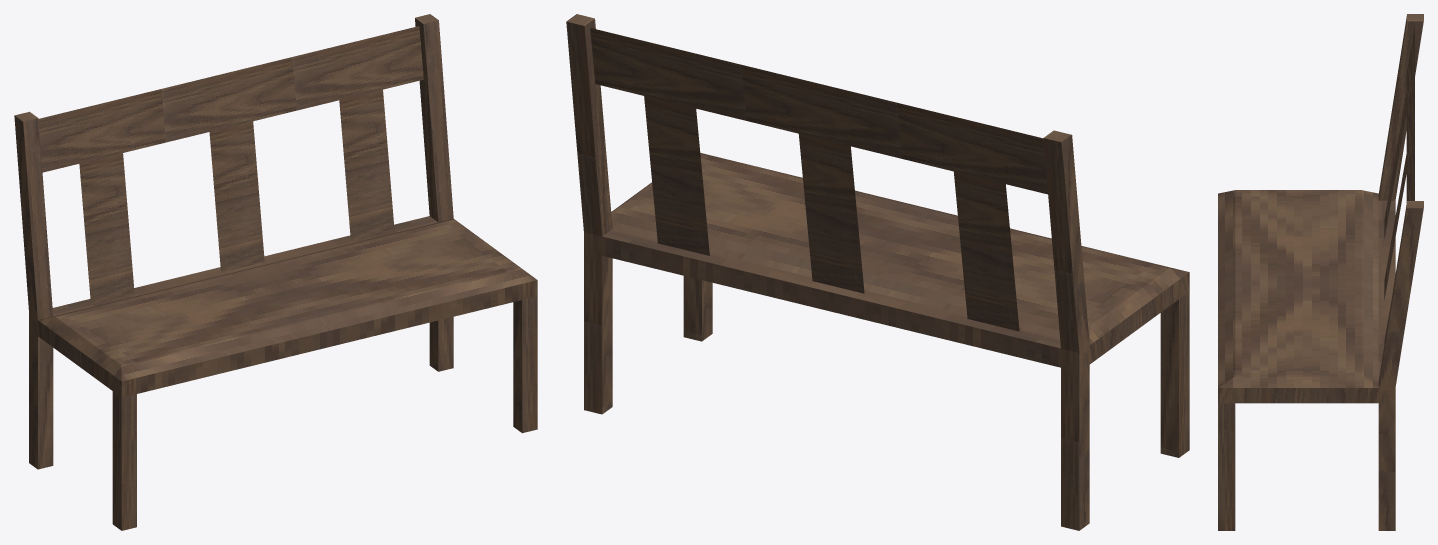
Rendered from Bench.fbx.
3 views of the same model, side by side, from view 1: azimuth 30°, elevation 25°; view 2: azimuth 150°, elevation 25°; view 3: azimuth 270°, elevation 25° (orthographic). The views are drawn at different scales.
Visible parts, largest first — view 1: Cube, Plane.001; view 2: Cube, Plane.001; view 3: Cube, Plane.001.
Part boxes in pixels (box(x1,y1,x2,y2)): Cube: box(14, 14, 537, 530); Plane.001: box(38, 26, 423, 304); Cube: box(566, 14, 1189, 530); Plane.001: box(590, 28, 1047, 331); Cube: box(1218, 14, 1423, 530); Plane.001: box(1384, 27, 1414, 344).
Bounding box in the file's own units: 518 × 401 × 232.
